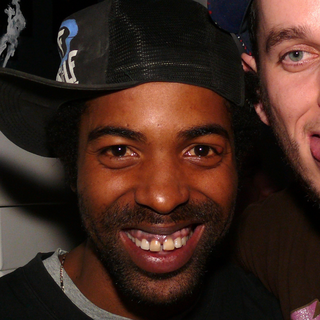eye: (275, 43, 320, 70), (95, 141, 144, 165), (180, 141, 226, 161)
